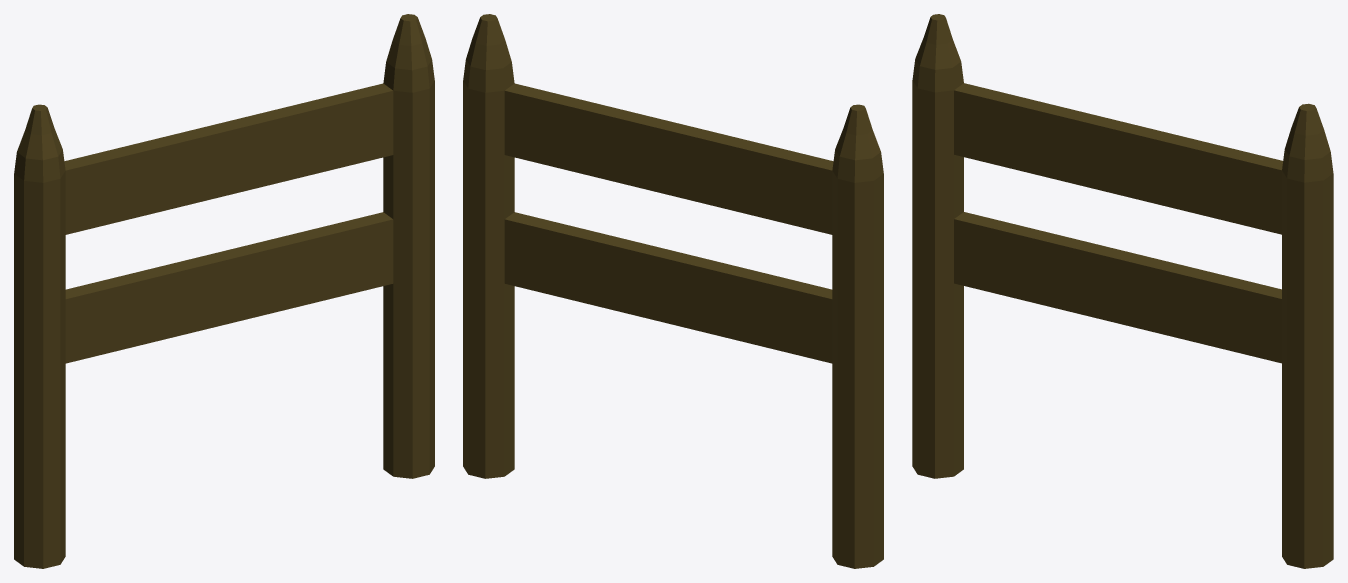
Rendered from fence2a.fbx.
3 renders of one model, left to right at view 1: azimuth 30°, elevation 25°; view 2: azimuth 150°, elevation 25°; view 3: azimuth 330°, elevation 25°, orthographic.
Parts seen in each view (by area): view 1: fence2; view 2: fence2; view 3: fence2.
Boxes of the visible parts, left/top/right/bottom form: fence2: left=14, top=14, right=434, bottom=568; fence2: left=463, top=14, right=883, bottom=568; fence2: left=912, top=14, right=1333, bottom=568.
Bounding box in the file's own units: 278 × 291 × 28.12.
